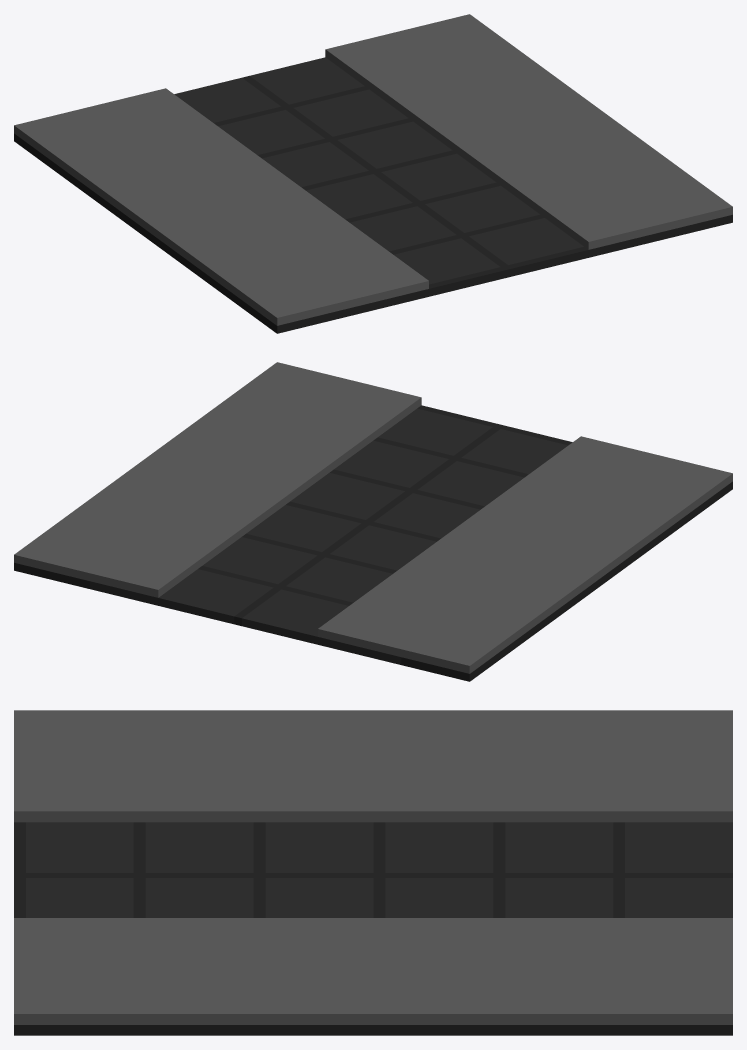
The model's file is pathway.obj.
3 views of the same model, one above another, from view 1: azimuth 30°, elevation 25°; view 2: azimuth 150°, elevation 25°; view 3: azimuth 270°, elevation 25° (orthographic). The views are drawn at different scales.
Visible parts, largest first — view 1: pathway; view 2: pathway; view 3: pathway.
Boxes of the visible parts, x1,y1,x2,y2 form: pathway: (14, 14, 732, 333); pathway: (14, 362, 732, 681); pathway: (14, 710, 732, 1035).
Size of the model in its own units: 60 by 2 by 60.
Materials: 1 (1 with a texture image).
